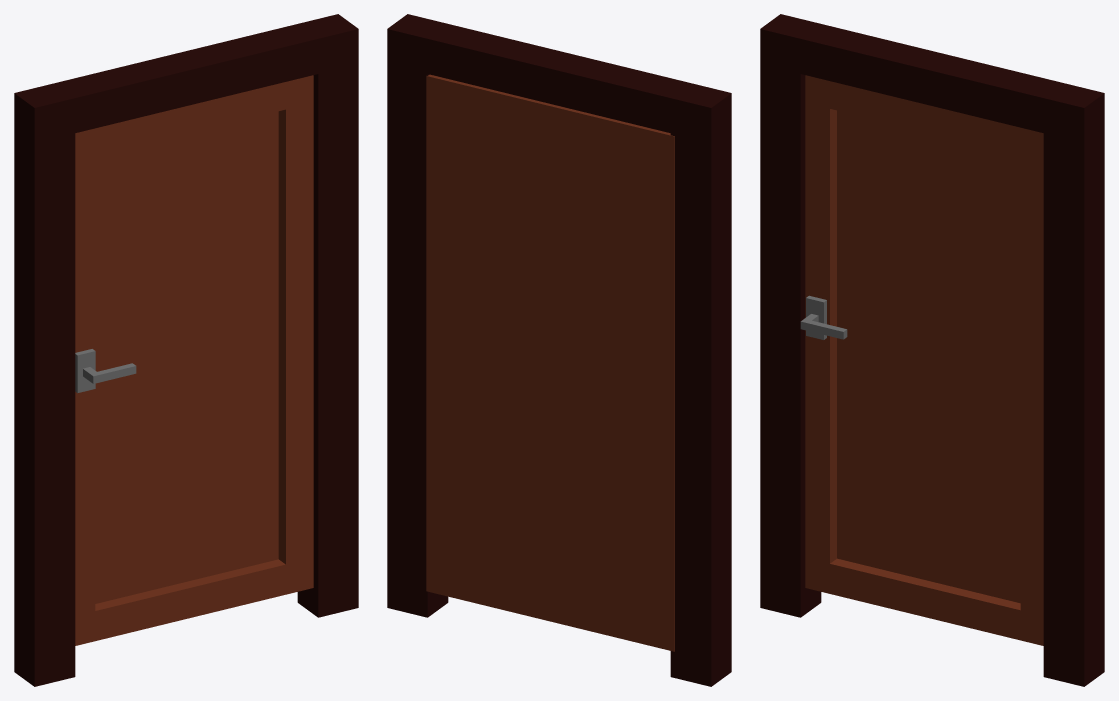
Rendered from Door.fbx.
3 renders of one model, left to right at view 1: azimuth 30°, elevation 25°; view 2: azimuth 150°, elevation 25°; view 3: azimuth 330°, elevation 25°, orthographic.
Visible parts, largest first — view 1: Plane.002, Cube.024, Cube.025; view 2: Plane.002, Cube.024; view 3: Plane.002, Cube.024, Cube.025.
Part boxes in pixels (box(x1,y1,x2,y2)): Plane.002: box(75, 75, 313, 645); Cube.024: box(14, 14, 358, 686); Cube.025: box(75, 349, 136, 393); Plane.002: box(426, 74, 674, 651); Cube.024: box(387, 14, 731, 686); Plane.002: box(805, 75, 1043, 645); Cube.024: box(760, 14, 1104, 686); Cube.025: box(800, 295, 847, 339).
Bounding box in the file's own units: 346 × 590 × 55.32.
